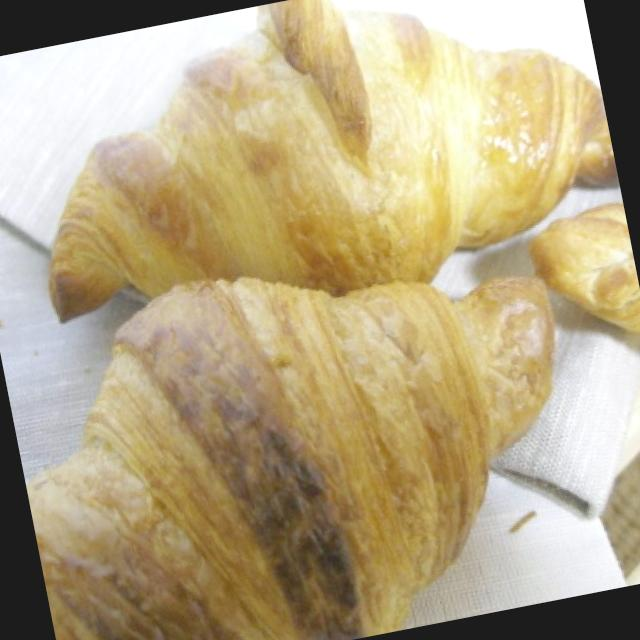Croissant: (0, 205, 614, 640)
